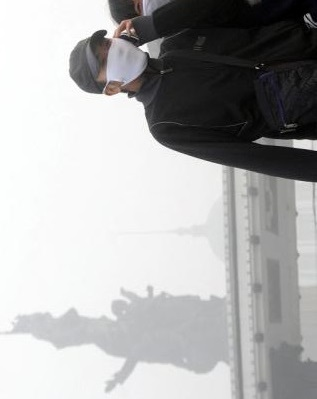person: (65, 12, 317, 184), (106, 1, 317, 31)
